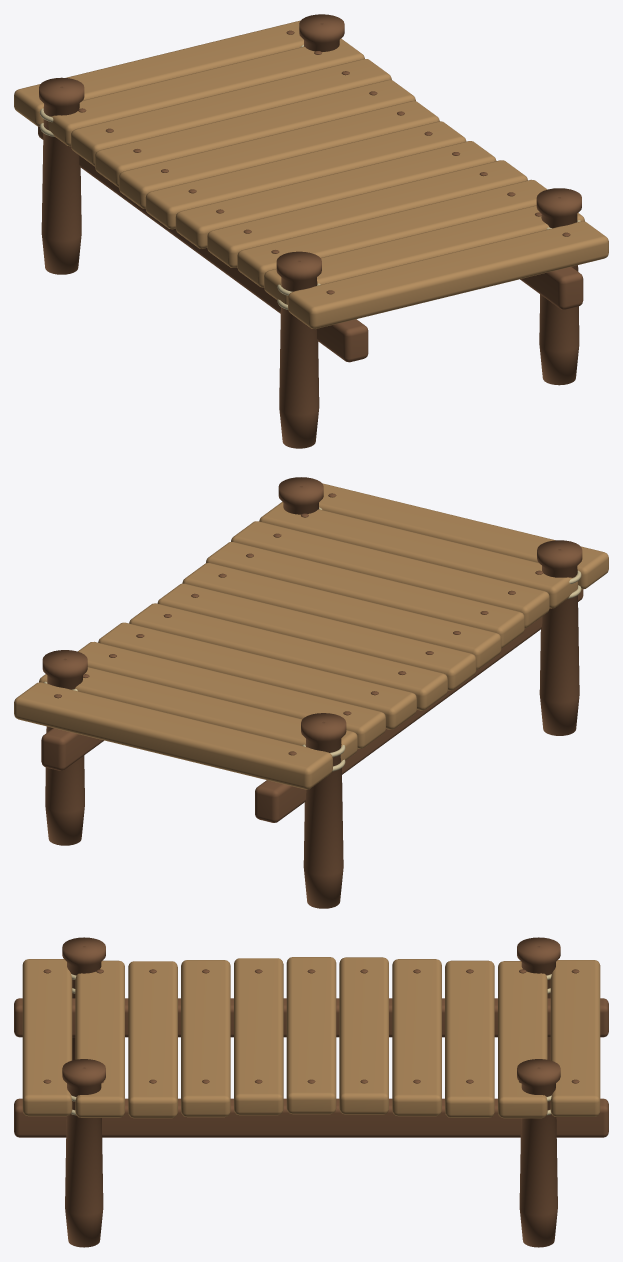
The model's file is harbor_dock_module.glb.
3 views of the same model, one above another, from view 1: azimuth 30°, elevation 25°; view 2: azimuth 150°, elevation 25°; view 3: azimuth 270°, elevation 25° (orthographic). The views are drawn at different scales.
Visible parts, largest first — view 1: harbor_dock_module__Rounded worn timber edge, harbor_dock_module__Oiled chestnut timber; view 2: harbor_dock_module__Rounded worn timber edge, harbor_dock_module__Oiled chestnut timber; view 3: harbor_dock_module__Rounded worn timber edge, harbor_dock_module__Oiled chestnut timber.
Boxes of the visible parts, bbox=[...] form: harbor_dock_module__Rounded worn timber edge: bbox=[14, 20, 608, 328]; harbor_dock_module__Oiled chestnut timber: bbox=[38, 14, 583, 448]; harbor_dock_module__Rounded worn timber edge: bbox=[14, 483, 608, 789]; harbor_dock_module__Oiled chestnut timber: bbox=[41, 477, 583, 908]; harbor_dock_module__Rounded worn timber edge: bbox=[22, 957, 600, 1118]; harbor_dock_module__Oiled chestnut timber: bbox=[14, 937, 608, 1247].
Size of the model in its own units: 2.04 by 1.14 by 3.56.
